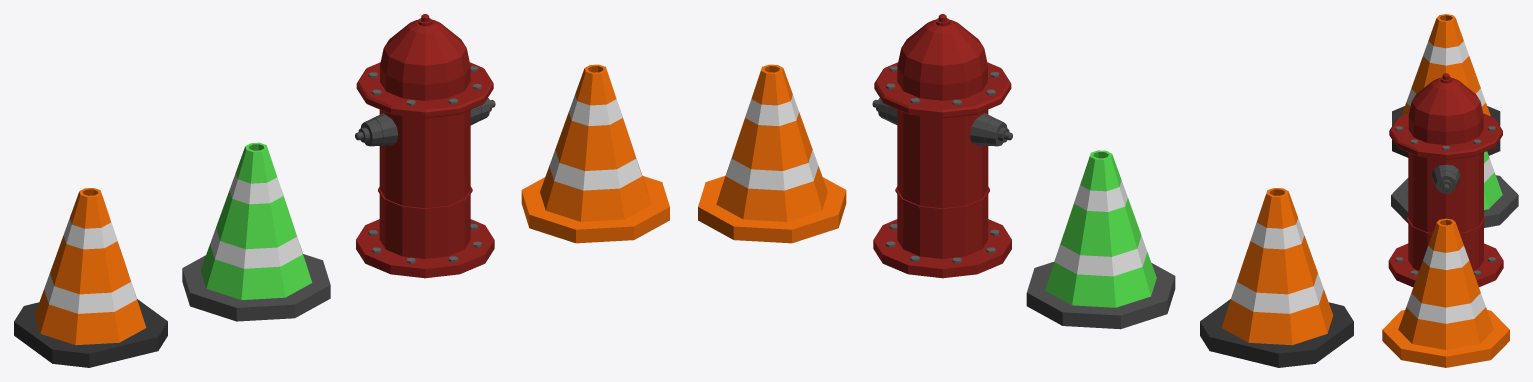
The model's file is FireHydrant.fbx.
The picture shows the model from 3 angles, left to right: view 1: azimuth 30°, elevation 25°; view 2: azimuth 150°, elevation 25°; view 3: azimuth 270°, elevation 25°; orthographic projection. The views are drawn at different scales.
Parts seen in each view (by area): view 1: Fire Hydrant, Traffic Cone Orange, Traffic Cone Green, Traffic Cone Orange.001; view 2: Fire Hydrant, Traffic Cone Green, Traffic Cone Orange, Traffic Cone Orange.001; view 3: Fire Hydrant, Traffic Cone Orange, Traffic Cone Orange.001, Traffic Cone Green.
Boxes of the visible parts, left/top/right/bottom form: Fire Hydrant: left=355, top=14, right=495, bottom=278; Traffic Cone Orange: left=521, top=64, right=669, bottom=243; Traffic Cone Green: left=182, top=142, right=330, bottom=321; Traffic Cone Orange.001: left=14, top=188, right=167, bottom=367; Fire Hydrant: left=872, top=14, right=1012, bottom=278; Traffic Cone Green: left=1026, top=150, right=1175, bottom=329; Traffic Cone Orange: left=698, top=64, right=846, bottom=243; Traffic Cone Orange.001: left=1200, top=188, right=1353, bottom=367; Fire Hydrant: left=1388, top=73, right=1503, bottom=287; Traffic Cone Orange: left=1382, top=218, right=1509, bottom=367; Traffic Cone Orange.001: left=1392, top=14, right=1500, bottom=157; Traffic Cone Green: left=1391, top=151, right=1518, bottom=227.
Bounding box in the file's own units: 192 × 70.98 × 43.36.
